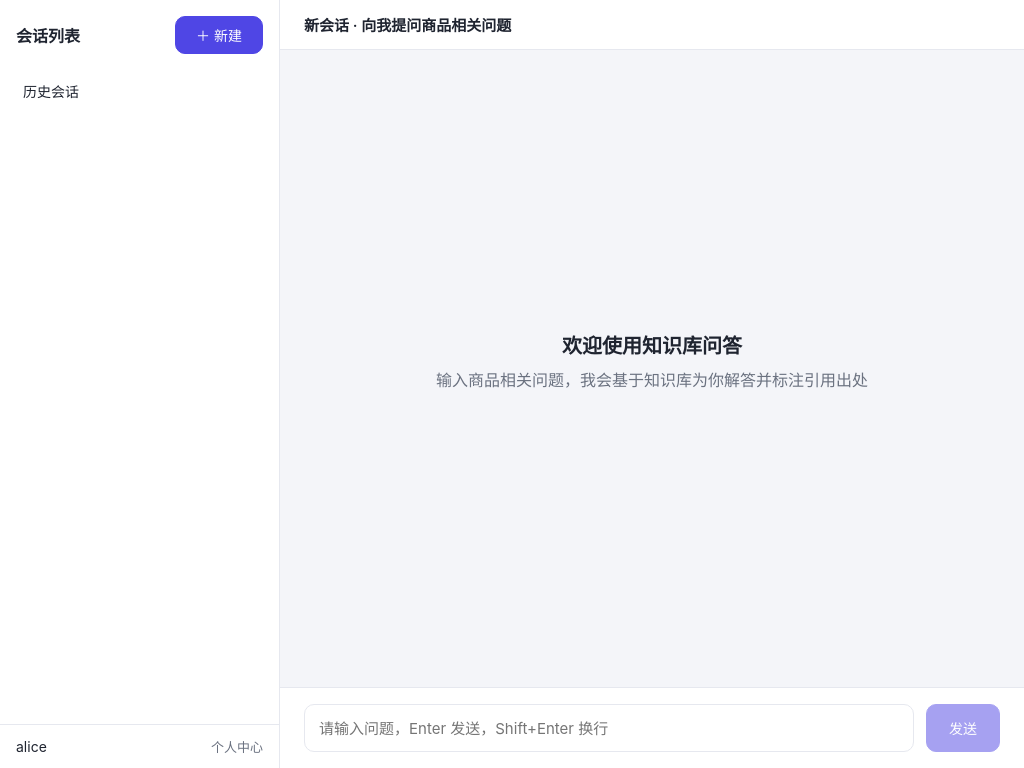
it: ChatPage 会话切换 › 切换会话时加载历史消息与引用
Click the text "历史会话" at (51, 92), box [23, 83, 79, 100]
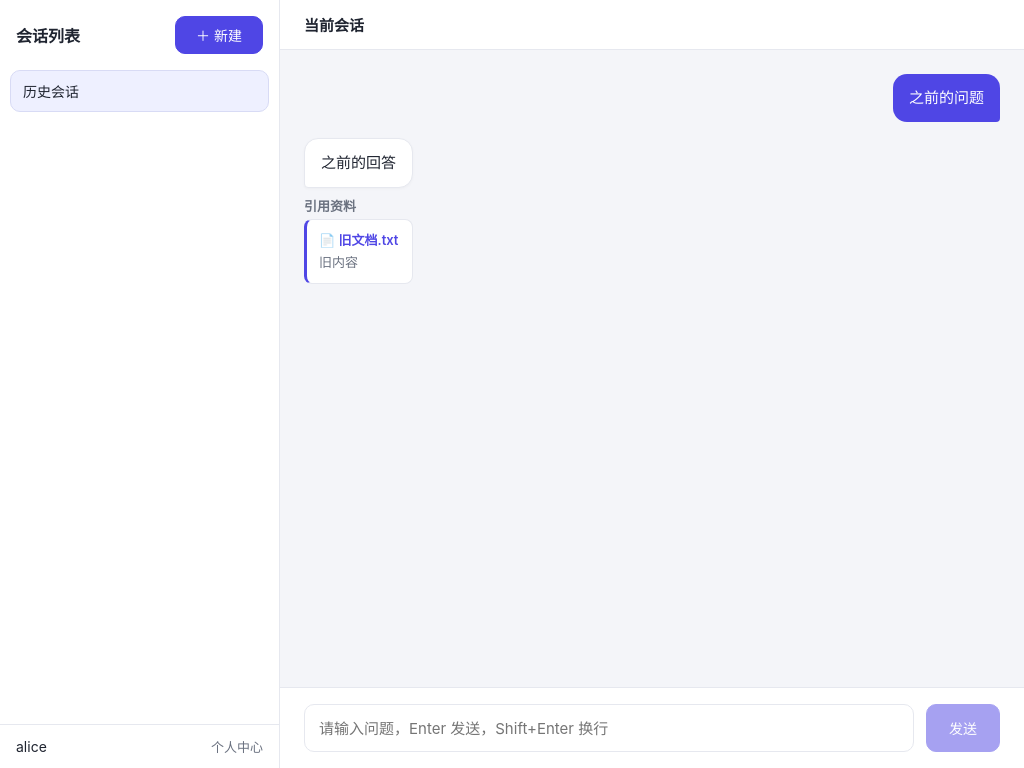
Expected: the text "之前的问题" is shown, [893, 74, 1000, 122]
Expected: the text "之前的回答" is shown, [321, 151, 396, 175]
Expected: the text "📄 旧文档.txt" is shown, [319, 230, 398, 249]
